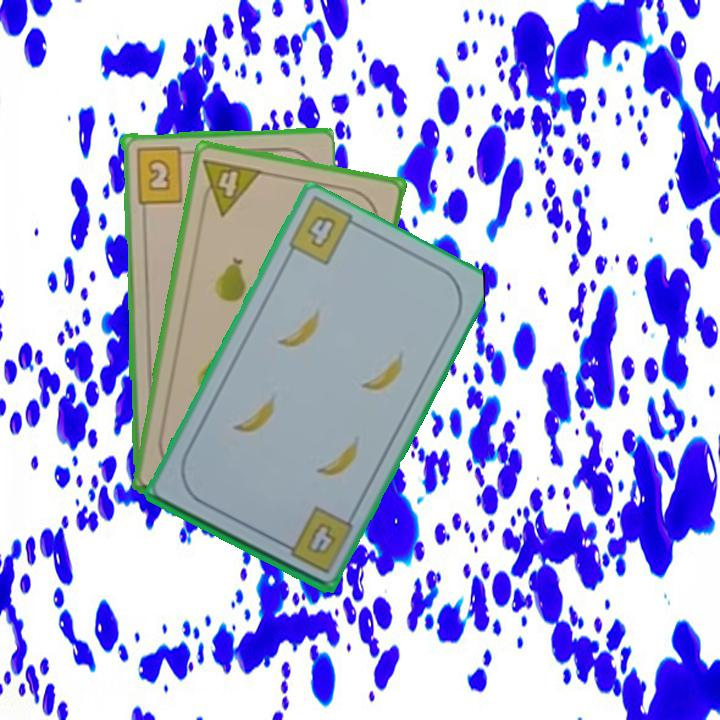2b: (132, 143, 193, 205)
4b: (275, 503, 356, 576), (303, 211, 339, 251)
4p: (196, 154, 265, 219)
